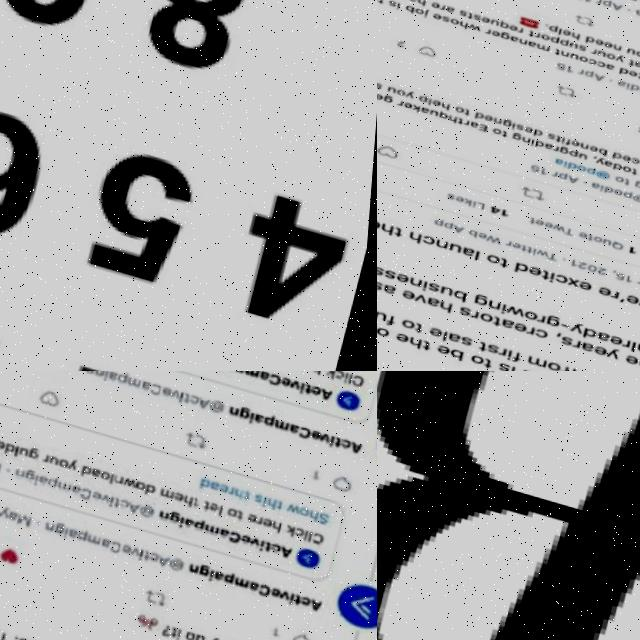0: (493, 196, 507, 206)
1: (51, 347, 150, 371), (620, 259, 632, 269), (535, 154, 546, 164), (559, 51, 570, 61), (277, 613, 286, 624), (315, 456, 323, 465)
4: (231, 172, 364, 327)
5: (83, 132, 207, 281)
6: (0, 90, 58, 243)
8: (137, 0, 257, 69)
A: (129, 489, 146, 505), (281, 531, 298, 546), (349, 425, 366, 439), (313, 583, 328, 598), (319, 374, 336, 387), (160, 542, 174, 557), (198, 385, 213, 398), (254, 399, 267, 412), (455, 323, 469, 334), (508, 308, 522, 319), (390, 277, 404, 287), (252, 568, 264, 579), (217, 558, 229, 569), (103, 528, 115, 539), (186, 506, 198, 517), (211, 469, 223, 480), (530, 359, 543, 369), (589, 330, 602, 340), (434, 288, 447, 298), (604, 319, 617, 329), (468, 238, 481, 248), (223, 515, 234, 526), (290, 410, 301, 421), (459, 216, 470, 226), (572, 164, 583, 174), (142, 371, 153, 381), (74, 476, 84, 486), (41, 467, 51, 477), (597, 61, 608, 70), (595, 169, 607, 177), (71, 520, 81, 529), (12, 504, 21, 514), (94, 459, 103, 469), (608, 148, 618, 155), (620, 68, 630, 75), (530, 30, 540, 37), (474, 112, 483, 119), (609, 51, 618, 58), (512, 26, 521, 33), (559, 148, 569, 154), (550, 133, 558, 139), (425, 100, 433, 106), (448, 0, 457, 4), (636, 47, 640, 54)
B: (377, 371, 640, 640), (456, 339, 473, 352), (459, 281, 474, 294), (473, 220, 484, 229), (603, 136, 612, 144), (406, 0, 418, 6)
C: (313, 517, 330, 532), (298, 411, 315, 426), (262, 569, 277, 584), (230, 517, 245, 532), (82, 478, 97, 493), (149, 371, 164, 386), (113, 529, 125, 544), (427, 227, 443, 237), (542, 317, 556, 328), (304, 581, 316, 593), (561, 263, 575, 273), (343, 423, 354, 435), (274, 529, 285, 540), (311, 371, 323, 381), (153, 541, 163, 551), (297, 513, 307, 523), (123, 489, 132, 499), (191, 384, 200, 394), (600, 49, 610, 56), (591, 47, 600, 54), (635, 144, 640, 150)
D: (589, 316, 604, 329), (520, 251, 535, 264), (198, 621, 211, 636), (5, 435, 18, 450), (201, 465, 214, 480), (146, 473, 159, 486), (548, 363, 563, 371), (538, 129, 550, 139), (83, 456, 93, 468), (621, 54, 633, 63), (587, 24, 598, 33), (573, 151, 582, 160), (617, 140, 627, 148), (617, 151, 626, 159), (479, 103, 488, 111), (609, 175, 618, 182), (538, 119, 547, 126), (633, 71, 640, 79)
E: (403, 325, 418, 336), (617, 322, 630, 333), (535, 255, 548, 266), (437, 319, 451, 329), (521, 312, 535, 322), (409, 282, 423, 292), (403, 265, 417, 275), (605, 274, 619, 284), (274, 574, 286, 585), (243, 521, 255, 532), (175, 480, 187, 491), (312, 416, 324, 427), (162, 376, 174, 387), (445, 336, 458, 346), (602, 333, 615, 343), (586, 269, 599, 279), (222, 628, 233, 639), (125, 533, 136, 544), (265, 504, 276, 515), (211, 490, 222, 501), (221, 471, 232, 482), (250, 500, 260, 510), (493, 21, 505, 29), (596, 26, 608, 34), (631, 281, 640, 291), (377, 212, 386, 222), (95, 482, 105, 491), (483, 222, 494, 230), (407, 94, 418, 102), (435, 90, 446, 98), (434, 4, 445, 12), (564, 18, 575, 26), (0, 432, 8, 443), (483, 115, 492, 123), (633, 341, 640, 351), (541, 208, 551, 215), (626, 142, 636, 149), (528, 116, 538, 123), (606, 29, 616, 36), (519, 232, 528, 239), (550, 211, 559, 218), (378, 87, 387, 94), (594, 133, 603, 140), (576, 128, 585, 135), (631, 57, 640, 64), (484, 7, 493, 14), (511, 15, 521, 21), (489, 105, 497, 112), (584, 220, 593, 226), (461, 187, 470, 193), (280, 371, 293, 374)
F: (519, 341, 530, 353), (576, 356, 587, 367), (393, 307, 403, 319), (569, 127, 575, 135)
G: (170, 497, 185, 514), (481, 283, 495, 297), (554, 303, 569, 316), (202, 551, 215, 566), (30, 438, 43, 453), (240, 393, 252, 408), (605, 361, 620, 371), (58, 513, 69, 526), (28, 460, 38, 474), (516, 122, 527, 132), (502, 21, 514, 30), (388, 88, 398, 96), (507, 109, 517, 117), (564, 135, 573, 143)
H: (414, 223, 429, 237), (446, 291, 460, 305), (416, 328, 430, 341), (386, 216, 400, 229), (186, 483, 196, 497), (312, 495, 322, 509), (274, 507, 285, 519), (236, 476, 247, 488), (269, 484, 279, 496), (231, 630, 242, 640), (445, 94, 454, 102), (453, 107, 461, 115), (463, 12, 471, 20), (574, 21, 582, 29), (0, 620, 4, 634)
I: (181, 504, 189, 517), (111, 486, 119, 499), (248, 398, 256, 411), (306, 515, 312, 528), (180, 617, 186, 629), (212, 557, 218, 569), (143, 539, 149, 551), (263, 526, 269, 538), (36, 466, 42, 478), (294, 578, 299, 592), (515, 339, 521, 350), (429, 273, 435, 284), (556, 261, 562, 272), (67, 518, 72, 531), (17, 438, 22, 450), (265, 483, 270, 495), (331, 421, 336, 433), (181, 380, 186, 392), (519, 356, 524, 366), (508, 294, 513, 304), (543, 362, 548, 371), (300, 371, 305, 379), (538, 238, 543, 245), (568, 150, 573, 157), (477, 192, 482, 198), (535, 129, 540, 135), (605, 173, 609, 179), (566, 127, 570, 133), (516, 113, 520, 119), (630, 71, 634, 77), (399, 0, 403, 2)
J: (427, 1, 433, 11)
K: (288, 511, 299, 523), (416, 96, 424, 105), (469, 189, 477, 197)
L: (111, 463, 117, 476), (221, 493, 227, 504), (482, 193, 490, 201), (450, 322, 456, 332), (481, 241, 486, 251), (310, 518, 315, 528), (377, 301, 380, 312), (637, 328, 640, 339), (432, 91, 436, 97), (561, 18, 565, 24)
M: (534, 345, 556, 357), (20, 505, 36, 520), (237, 564, 255, 577), (273, 406, 291, 418), (90, 525, 106, 536), (207, 512, 223, 523), (59, 472, 75, 483), (163, 477, 178, 488), (539, 33, 553, 41), (127, 371, 143, 377), (0, 452, 5, 468)
N: (495, 290, 509, 300), (441, 231, 455, 241), (192, 551, 204, 562), (229, 394, 241, 405), (416, 269, 429, 279), (162, 499, 173, 510), (17, 461, 27, 471), (118, 465, 127, 475), (48, 514, 57, 523), (497, 107, 507, 114), (522, 28, 531, 35), (616, 32, 625, 39), (377, 316, 383, 326), (584, 131, 592, 138), (565, 39, 573, 46), (527, 127, 535, 133)
O: (408, 311, 423, 322), (383, 320, 399, 330), (532, 299, 546, 310), (478, 345, 493, 355), (555, 350, 569, 360), (190, 619, 201, 631), (229, 494, 241, 505), (301, 493, 313, 504), (592, 360, 605, 370), (493, 244, 506, 254), (487, 303, 500, 313), (138, 470, 149, 481), (103, 461, 114, 472), (458, 97, 470, 105), (608, 40, 620, 48), (542, 23, 554, 31), (62, 450, 71, 460), (618, 175, 629, 183), (581, 153, 592, 161), (496, 118, 507, 126), (399, 81, 410, 89), (24, 630, 33, 639), (620, 163, 630, 170), (627, 153, 637, 160), (452, 10, 462, 17), (599, 224, 608, 231), (582, 44, 591, 51), (418, 0, 427, 7), (561, 367, 576, 371), (251, 635, 262, 640), (625, 368, 638, 371), (637, 37, 640, 45)
P: (265, 399, 278, 415), (196, 506, 209, 521), (227, 557, 239, 572), (81, 520, 92, 532), (52, 469, 61, 479), (591, 155, 601, 163), (573, 138, 583, 146), (450, 212, 460, 220), (628, 177, 637, 185), (564, 160, 573, 168), (423, 87, 432, 95), (563, 27, 572, 35), (588, 58, 597, 66), (551, 14, 561, 21), (554, 24, 562, 32), (441, 210, 450, 217), (118, 371, 129, 374)
Q: (617, 228, 631, 238), (502, 10, 514, 19), (443, 103, 452, 111)
R: (568, 354, 577, 363), (506, 337, 515, 346), (580, 327, 588, 336), (534, 315, 542, 324), (478, 300, 486, 309), (544, 304, 553, 312), (617, 278, 626, 286), (44, 445, 51, 455), (630, 326, 638, 334), (260, 503, 267, 512), (230, 474, 237, 483), (520, 16, 527, 23), (557, 134, 563, 141), (401, 93, 407, 100), (488, 19, 494, 26), (512, 230, 518, 236), (557, 159, 563, 165), (468, 111, 474, 117), (594, 36, 600, 42), (537, 21, 543, 27), (582, 58, 588, 64), (441, 0, 448, 2)
S: (321, 496, 333, 511), (494, 334, 508, 344), (567, 324, 581, 334), (468, 327, 481, 337), (466, 297, 479, 307), (434, 274, 447, 284), (390, 262, 403, 272), (507, 353, 518, 363), (379, 273, 390, 283), (379, 259, 390, 269), (256, 481, 266, 490), (452, 184, 461, 191), (552, 122, 561, 129), (519, 114, 528, 121), (378, 76, 387, 83), (444, 8, 453, 15), (462, 1, 471, 8), (582, 33, 590, 40), (476, 5, 484, 11)
T: (2, 624, 16, 637), (430, 332, 440, 344), (422, 314, 432, 326), (506, 247, 516, 259), (400, 219, 410, 231), (491, 348, 501, 359), (486, 332, 496, 343), (553, 241, 564, 251), (146, 539, 155, 551), (42, 633, 57, 640), (335, 422, 344, 433), (174, 616, 182, 627), (239, 498, 247, 509), (184, 381, 191, 393), (500, 307, 509, 316), (571, 216, 580, 225), (116, 487, 124, 497), (549, 260, 557, 269), (304, 371, 313, 379), (298, 580, 305, 590), (246, 478, 253, 488), (195, 486, 202, 495), (267, 528, 274, 537), (279, 487, 285, 497), (240, 633, 248, 640), (206, 489, 212, 498), (557, 38, 564, 45), (527, 234, 533, 241), (535, 207, 541, 214), (629, 166, 635, 173), (506, 121, 512, 128), (469, 100, 475, 107), (631, 47, 638, 53), (462, 108, 467, 116), (560, 124, 565, 132), (533, 236, 539, 242), (593, 223, 599, 229), (531, 20, 536, 27), (470, 4, 475, 10), (636, 155, 640, 162), (377, 85, 379, 92)
U: (455, 234, 469, 245), (382, 304, 395, 314), (448, 277, 461, 287), (51, 447, 61, 457), (21, 439, 31, 449), (572, 42, 582, 49), (583, 142, 593, 148), (609, 226, 617, 233), (434, 102, 442, 109), (392, 79, 400, 86), (493, 10, 502, 16), (572, 31, 580, 37), (629, 36, 637, 42), (600, 39, 609, 44)
V: (421, 285, 435, 295), (284, 576, 296, 587), (320, 418, 332, 429), (171, 378, 183, 389), (135, 536, 144, 546), (254, 524, 263, 534), (104, 484, 113, 494), (291, 371, 301, 375)
W: (513, 295, 533, 306), (289, 489, 304, 501), (125, 467, 141, 478), (30, 630, 47, 640), (492, 225, 507, 235), (470, 15, 484, 23), (542, 238, 555, 246), (558, 213, 571, 221)
X: (574, 266, 586, 276)
Y: (614, 334, 629, 347), (213, 622, 226, 637), (577, 309, 591, 322), (3, 498, 14, 512), (70, 449, 80, 463), (601, 144, 610, 153), (410, 83, 418, 91), (619, 42, 628, 49)
